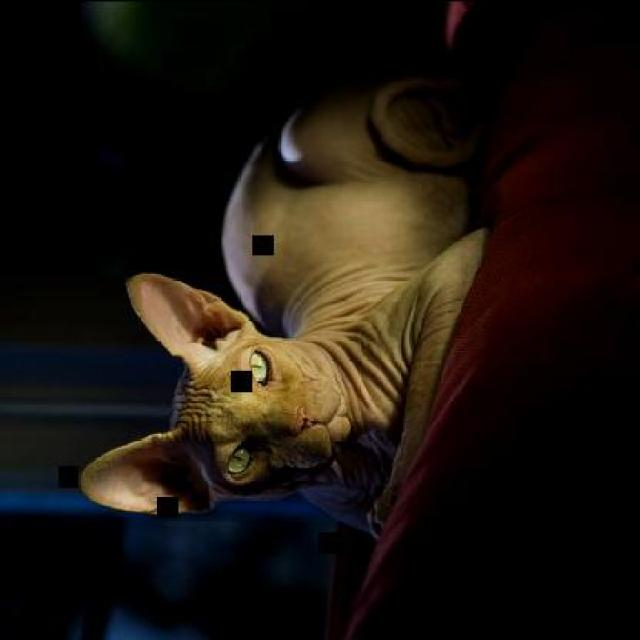unauthorized: (77, 66, 494, 537)
